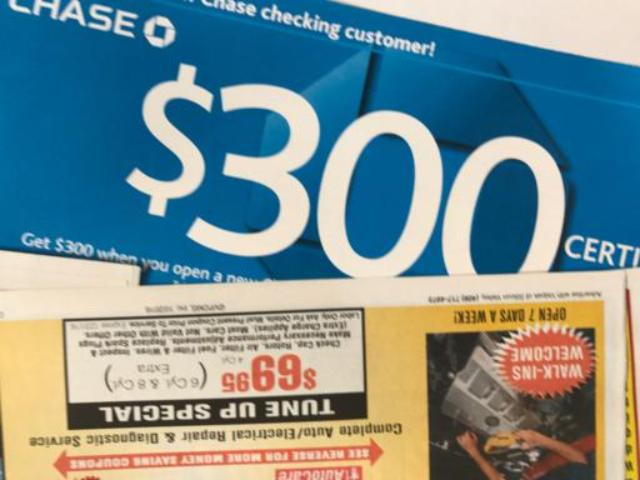cardboard paper: (0, 271, 622, 476), (8, 271, 144, 289)
